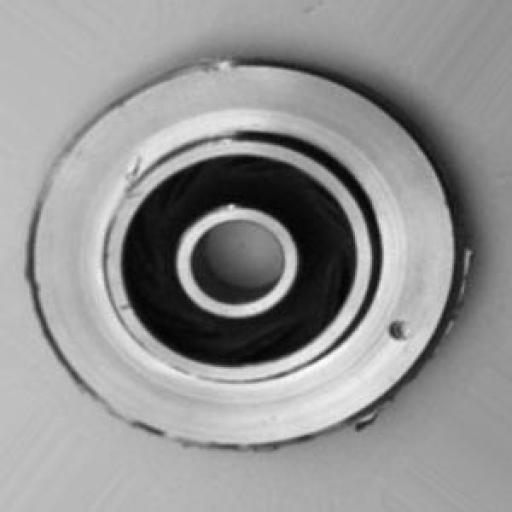defect: (45, 43, 488, 480), (385, 296, 426, 371)
